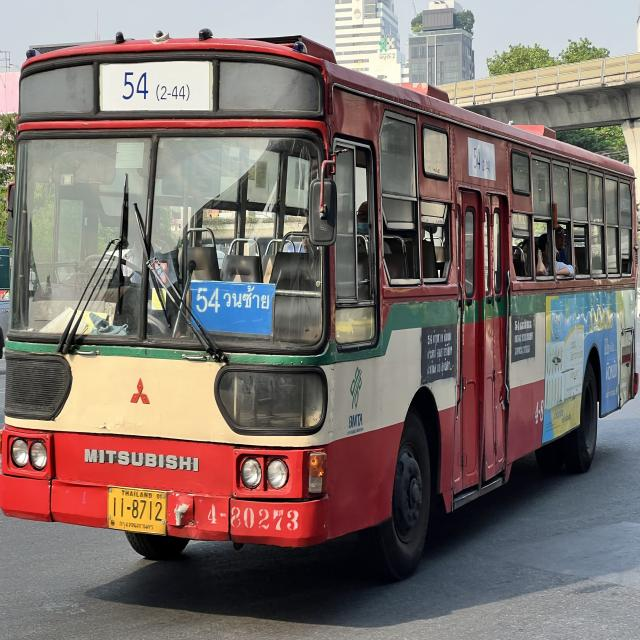BMTA-bus: (0, 32, 640, 582)
Bus Line Number: (100, 60, 212, 113)
Bus Side Number: (202, 499, 298, 540)
Destination Sign: (189, 272, 276, 342)
